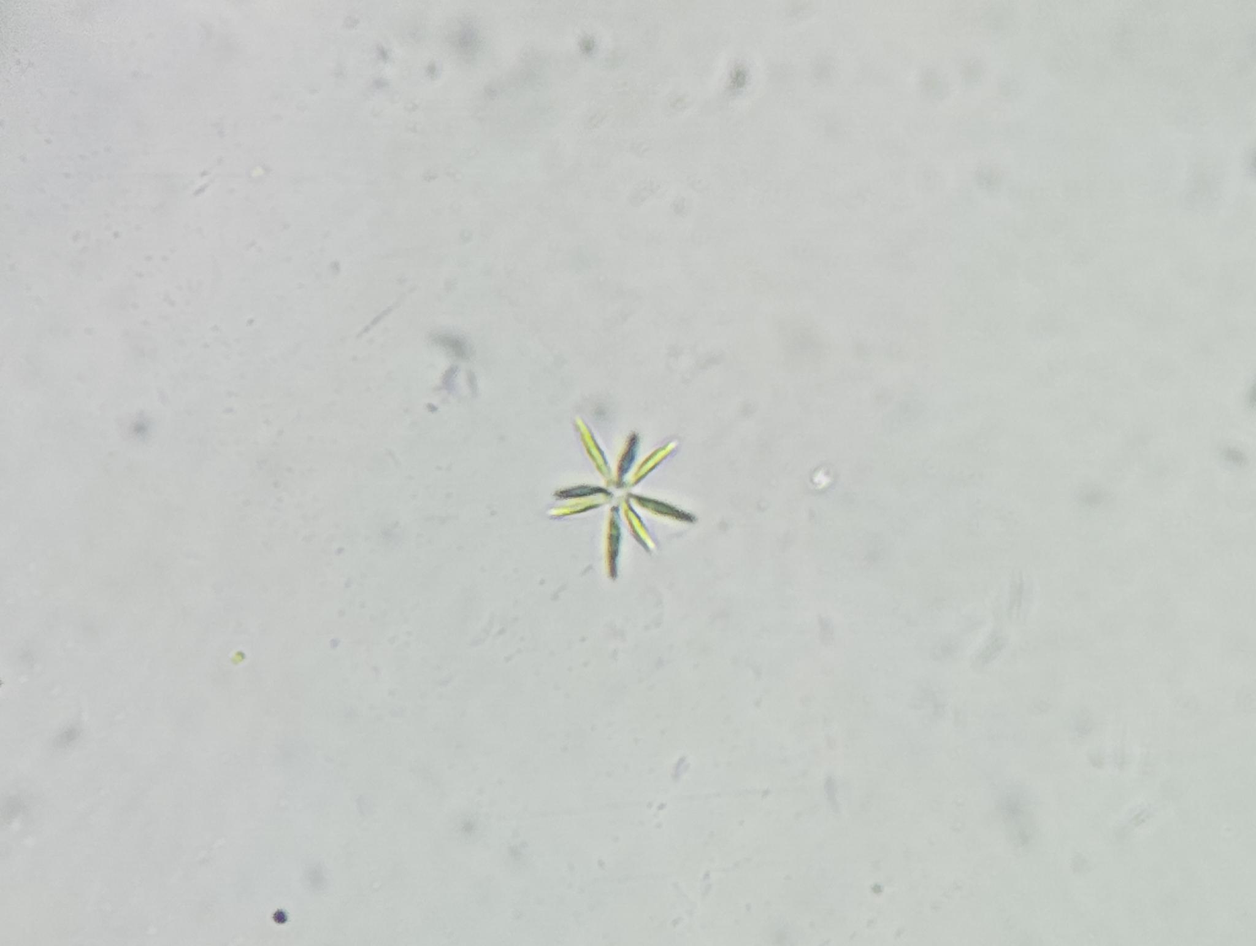Scenedesmus: (529, 391, 718, 601)
